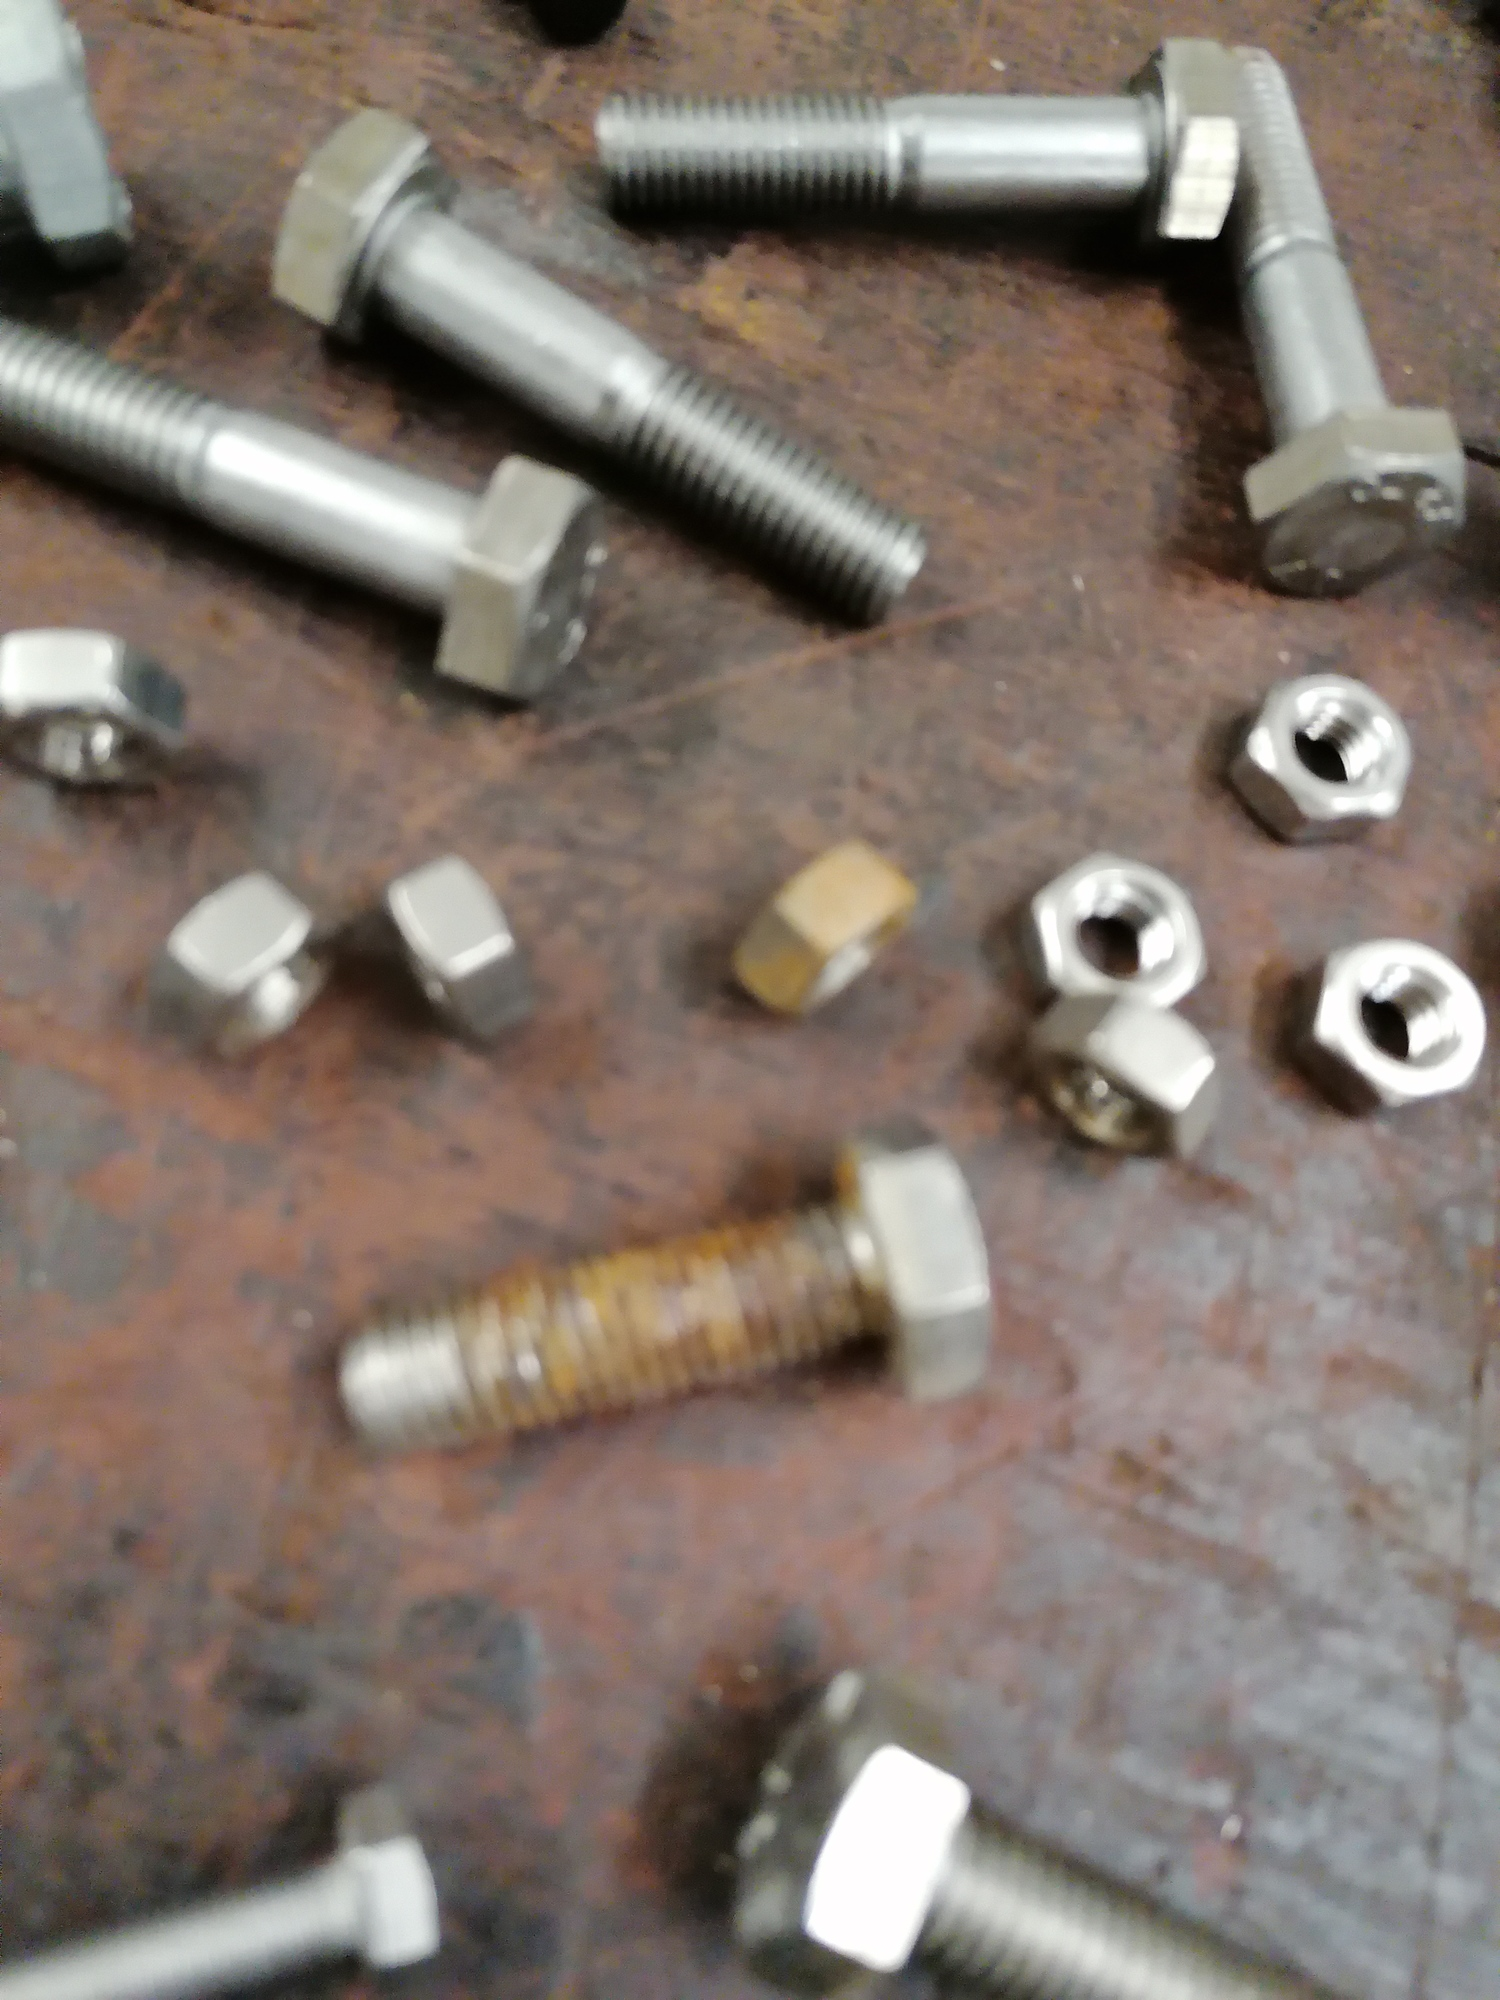bolt: (266, 102, 933, 627), (0, 312, 616, 706), (332, 1120, 1001, 1460), (720, 1663, 1366, 1995), (1215, 36, 1470, 602), (591, 33, 1245, 250), (2, 1780, 451, 1998), (0, 0, 143, 269)
nut: (725, 825, 922, 1024), (1016, 987, 1231, 1167), (147, 865, 339, 1061), (1290, 932, 1487, 1121), (1008, 843, 1216, 1013), (1224, 668, 1420, 847), (378, 850, 539, 1052), (3, 627, 195, 794)
